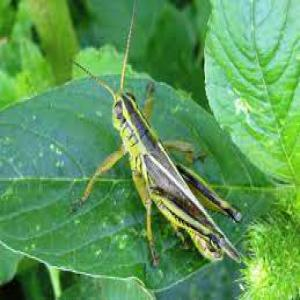locust: (95, 66, 238, 267)
